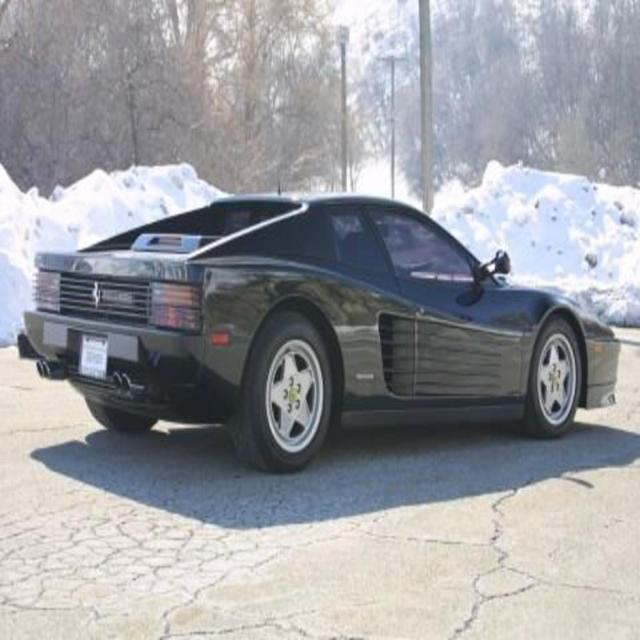car: (18, 183, 621, 477)
